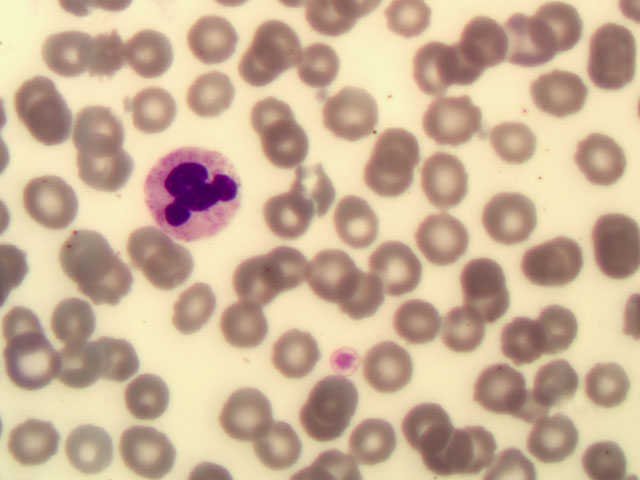Platelets: (331, 349, 359, 370)
RBC: (76, 27, 137, 89), (123, 23, 184, 84), (184, 10, 245, 71), (180, 66, 241, 127), (122, 84, 183, 145), (70, 91, 131, 152), (65, 131, 126, 192), (33, 108, 94, 169), (9, 64, 70, 125), (17, 171, 78, 232), (37, 212, 98, 273), (79, 258, 140, 319), (105, 208, 166, 269), (134, 239, 195, 300), (167, 283, 228, 344), (85, 324, 146, 385), (48, 341, 109, 402), (49, 290, 110, 351), (3, 331, 64, 392), (1, 417, 62, 478), (60, 419, 121, 480), (116, 419, 177, 480), (122, 364, 183, 425), (219, 379, 280, 440), (242, 413, 303, 474), (266, 323, 327, 384), (221, 307, 282, 368), (222, 256, 283, 317), (260, 234, 321, 295), (301, 237, 362, 298), (340, 264, 401, 325), (365, 234, 426, 295), (259, 184, 320, 245), (286, 157, 347, 218), (261, 122, 322, 183), (244, 77, 305, 138), (223, 39, 284, 100), (238, 17, 299, 78), (298, 42, 359, 103), (324, 86, 385, 147), (371, 104, 432, 165), (363, 138, 424, 199), (426, 153, 487, 214), (427, 88, 488, 149), (409, 37, 470, 98), (435, 31, 496, 92), (455, 15, 516, 76), (509, 20, 570, 81), (579, 26, 640, 87), (532, 67, 593, 128), (559, 132, 620, 193), (494, 119, 555, 180), (480, 193, 541, 254), (418, 210, 479, 271), (444, 241, 505, 302), (461, 276, 522, 337), (444, 301, 505, 362), (392, 294, 453, 355), (366, 339, 427, 400), (399, 393, 460, 454), (356, 411, 417, 472), (300, 374, 361, 435), (447, 419, 508, 480), (530, 405, 591, 466), (469, 357, 530, 418), (527, 353, 588, 414), (579, 351, 640, 412), (539, 300, 600, 361), (494, 307, 555, 368), (520, 233, 581, 294), (579, 214, 640, 275), (537, 1, 598, 61), (39, 24, 92, 77)
WBC: (143, 148, 242, 243)
